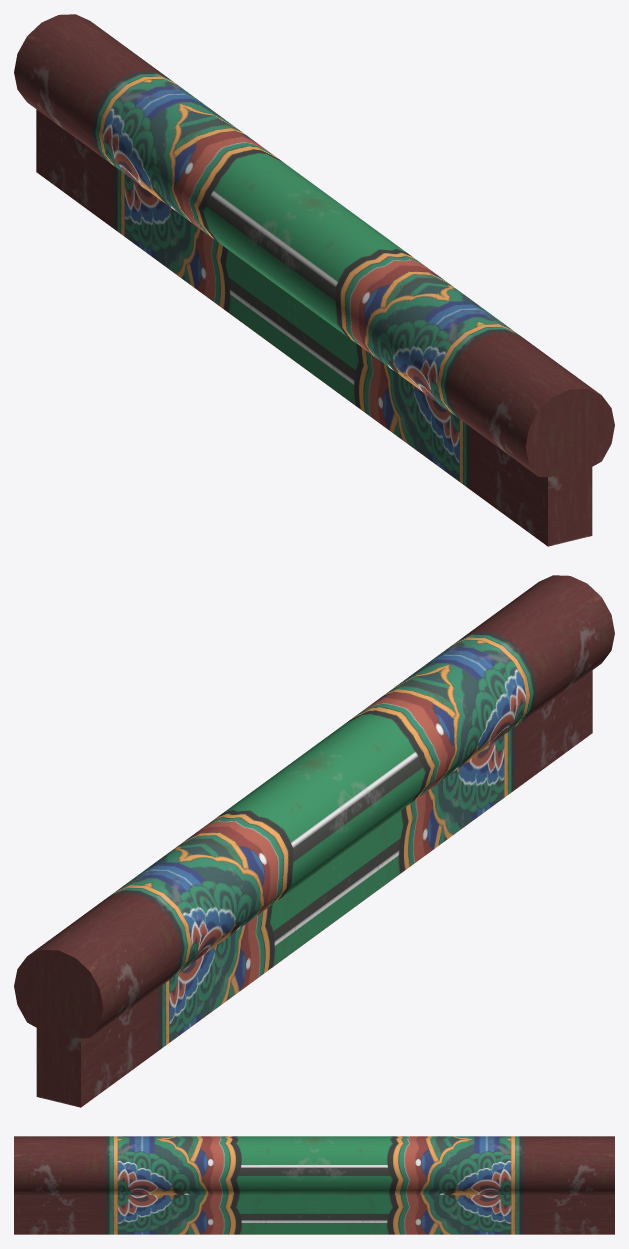
File: SM_Purlin01f.fbx
The picture shows the model from 3 angles, top to bottom: view 1: azimuth 30°, elevation 25°; view 2: azimuth 150°, elevation 25°; view 3: azimuth 270°, elevation 25°; orthographic projection. The views are drawn at different scales.
Visible parts, largest first — view 1: SM_Purlin01f; view 2: SM_Purlin01f; view 3: SM_Purlin01f.
Boxes of the visible parts, x1,y1,x2,y2 form: SM_Purlin01f: (14,14,614,546); SM_Purlin01f: (14,575,614,1107); SM_Purlin01f: (14,1136,614,1234).
Size of the model in its own units: 20.15 by 200 by 32.73.
Materials: 1 (1 with a texture image).
